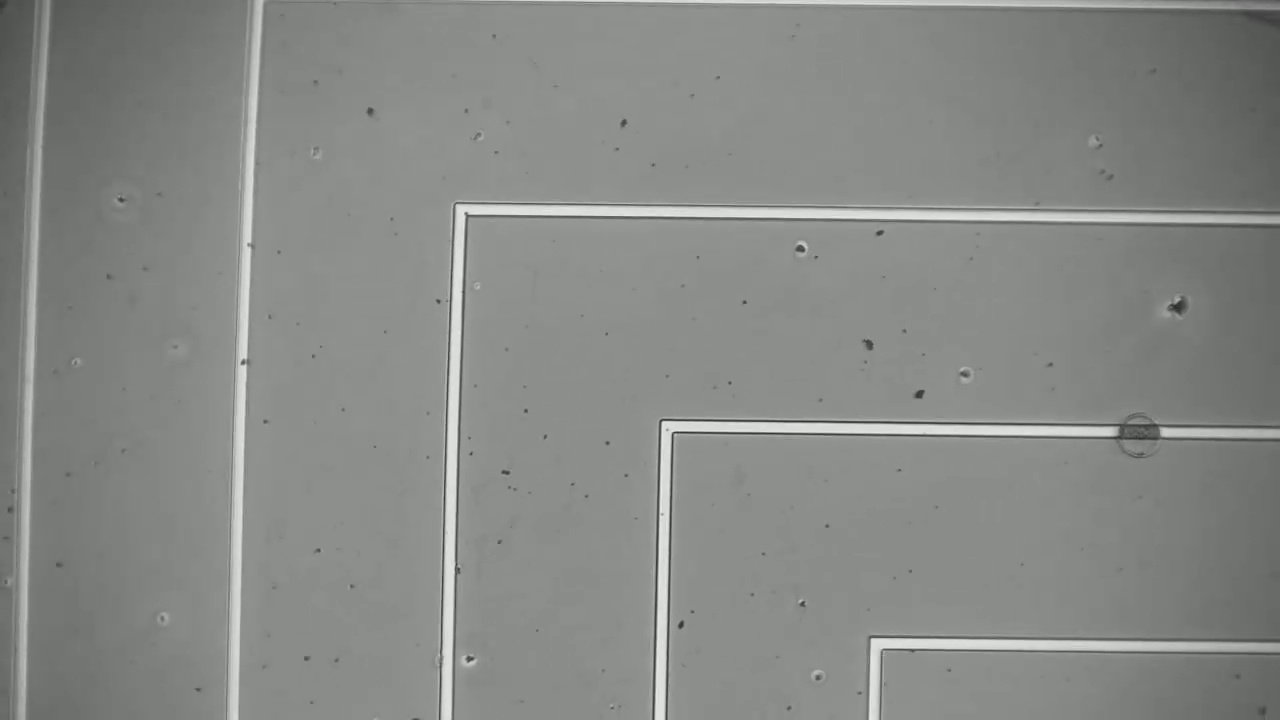gray_line: (1105, 416, 1173, 448)
